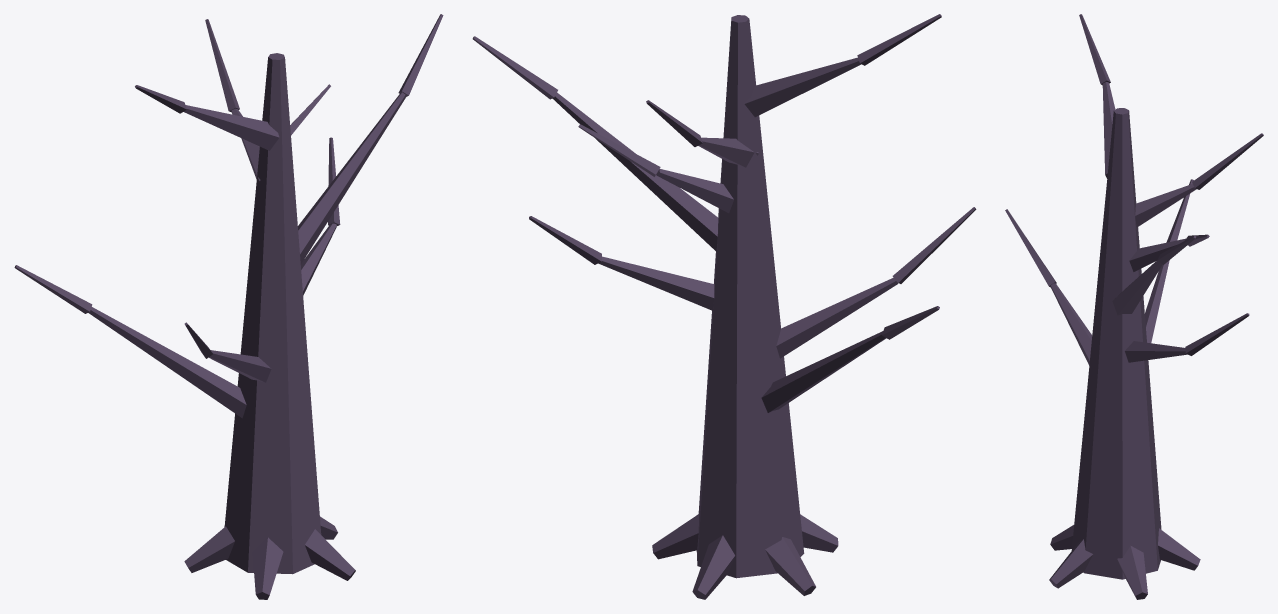
Rendered from tree_dead.glb.
3 views of the same model, side by side, from view 1: azimuth 30°, elevation 25°; view 2: azimuth 150°, elevation 25°; view 3: azimuth 270°, elevation 25° (orthographic). The views are drawn at different scales.
Visible parts, largest first — view 1: tree_dead; view 2: tree_dead; view 3: tree_dead.
Part boxes in pixels (x1,y1,x2,y2): tree_dead: (14, 14, 443, 599); tree_dead: (472, 14, 976, 599); tree_dead: (1005, 14, 1263, 599).
Bounding box in the file's own units: 4 × 4.74 × 2.29.
